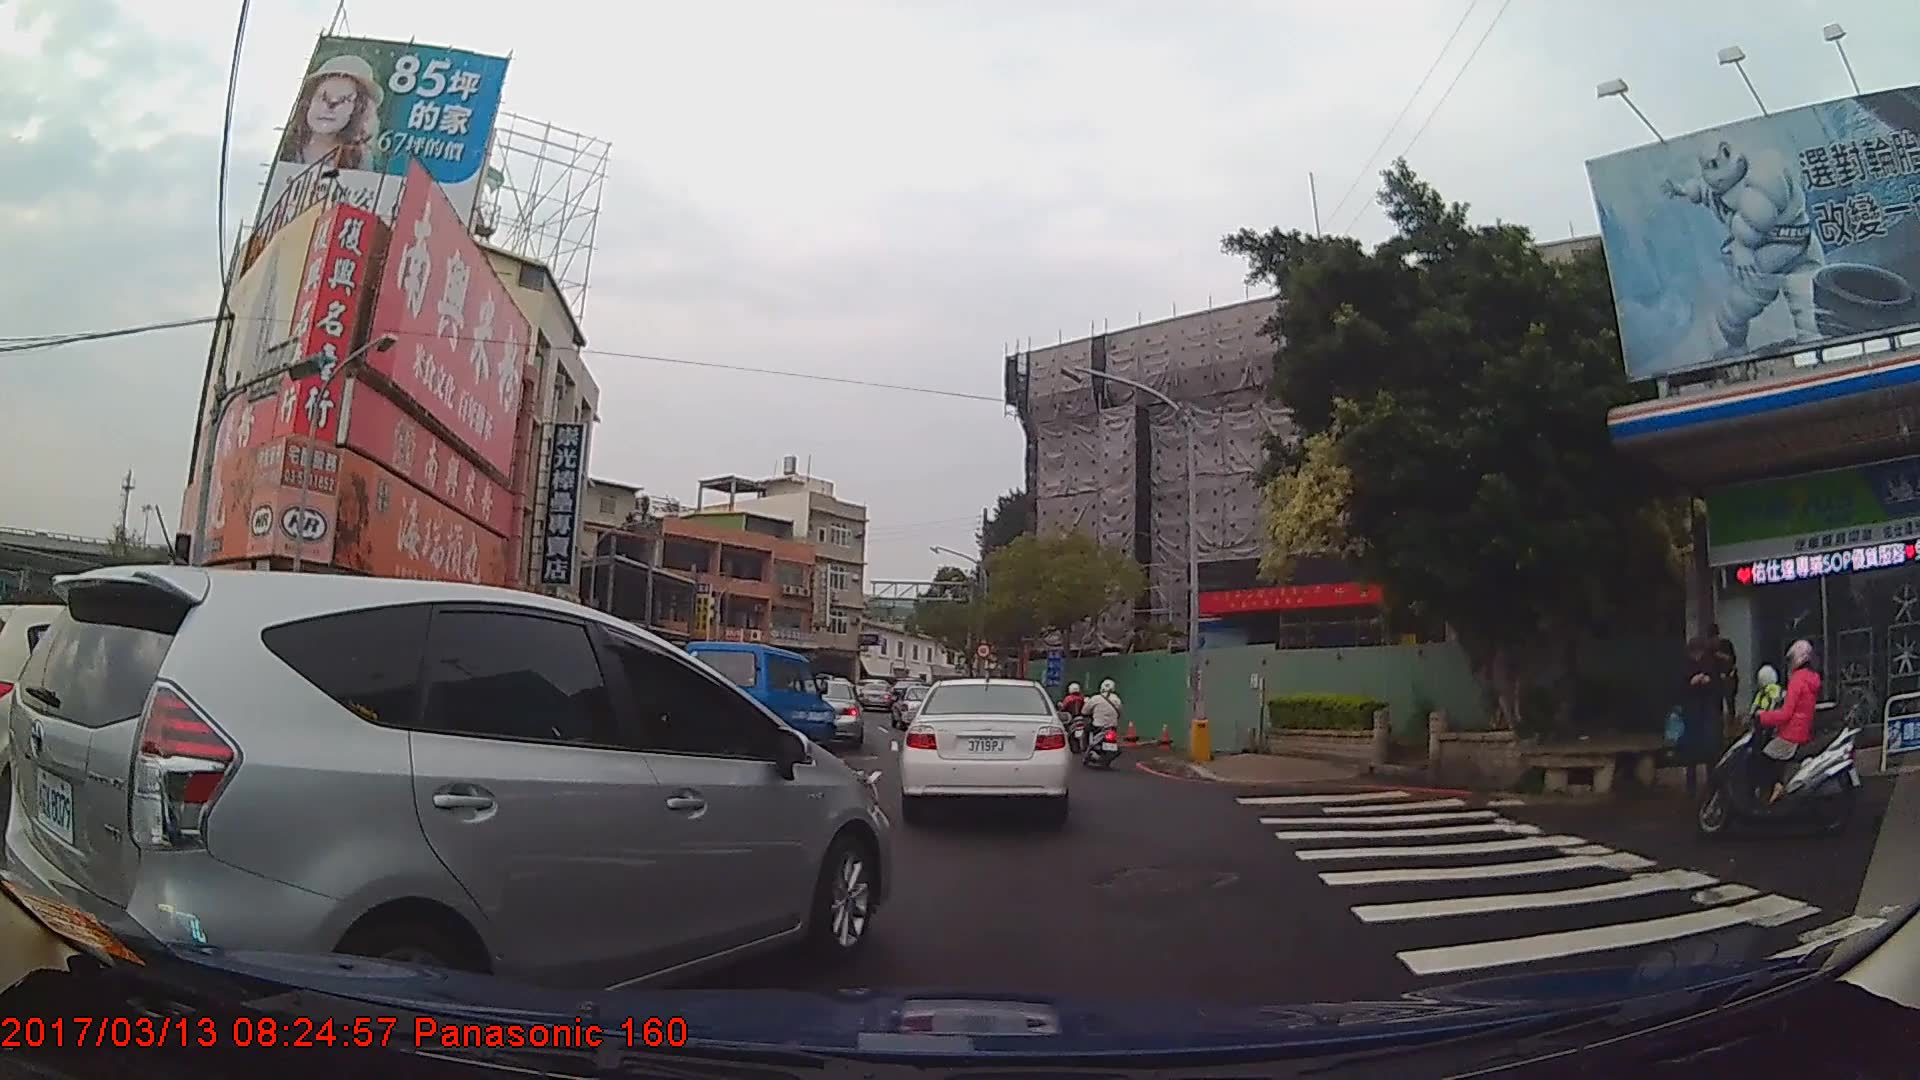pedestrian: (1685, 639, 1737, 804), (1696, 621, 1742, 750)
rider: (1695, 636, 1864, 836), (1083, 679, 1124, 769), (1060, 681, 1095, 755)
vehicle: (2, 565, 895, 1041), (898, 674, 1075, 826), (672, 638, 834, 755), (788, 679, 865, 751)
